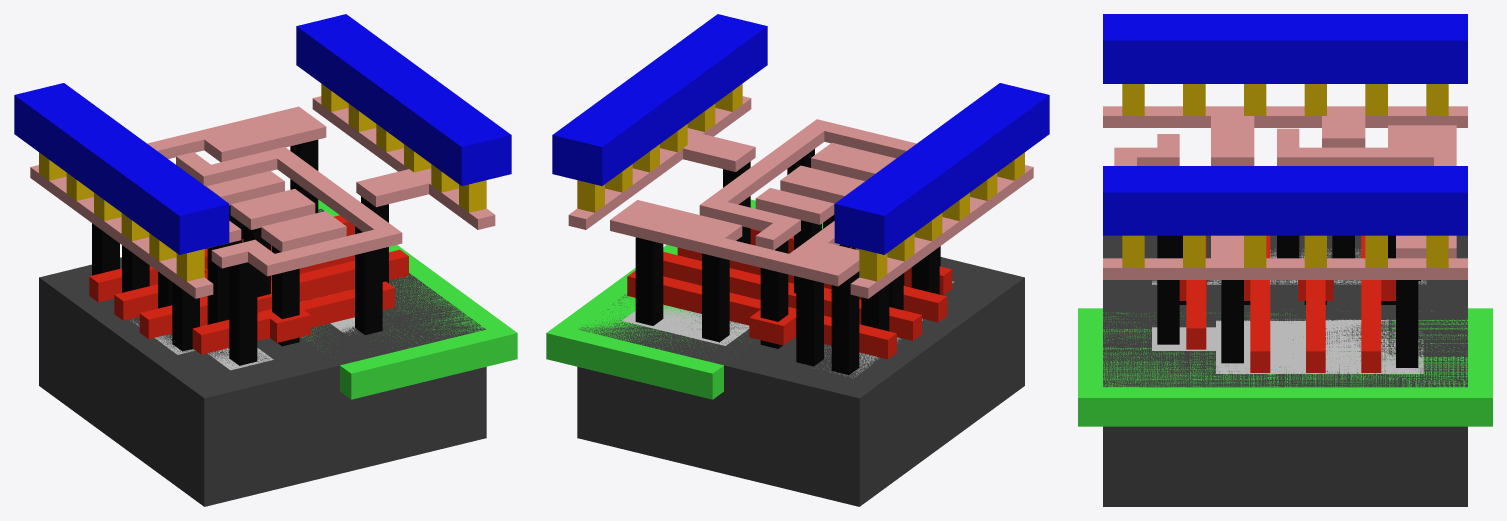
File: sky130_fd_sc_hd__nor3b_1.obj
The picture shows the model from 3 angles, left to right: view 1: azimuth 30°, elevation 25°; view 2: azimuth 150°, elevation 25°; view 3: azimuth 270°, elevation 25°; orthographic projection. The views are drawn at different scales.
Visible parts, largest first — view 1: subs, metal1, li, licon, poly, nwell, mcon, diff; view 2: subs, metal1, li, licon, poly, nwell, mcon, tap; view 3: subs, metal1, nwell, li, mcon, poly, licon, tap, diff.
Part boxes in pixels (x1=…): subs: x1=39, y1=208, x2=486, y2=506; metal1: x1=14, y1=14, x2=511, y2=254; li: x1=30, y1=96, x2=495, y2=298; licon: x1=92, y1=139, x2=388, y2=365; poly: x1=89, y1=215, x2=408, y2=354; nwell: x1=302, y1=199, x2=517, y2=399; mcon: x1=39, y1=83, x2=486, y2=281; diff: x1=130, y1=320, x2=273, y2=370; subs: x1=577, y1=228, x2=1024, y2=506; metal1: x1=552, y1=14, x2=1049, y2=254; li: x1=568, y1=96, x2=1033, y2=298; licon: x1=635, y1=149, x2=940, y2=374; poly: x1=627, y1=228, x2=952, y2=359; nwell: x1=546, y1=199, x2=822, y2=399; mcon: x1=577, y1=83, x2=1024, y2=281; tap: x1=622, y1=305, x2=749, y2=345; subs: x1=1103, y1=235, x2=1467, y2=506; metal1: x1=1103, y1=14, x2=1467, y2=235; nwell: x1=1078, y1=308, x2=1492, y2=426; li: x1=1103, y1=106, x2=1467, y2=279; mcon: x1=1122, y1=84, x2=1448, y2=267; poly: x1=1179, y1=235, x2=1395, y2=372; licon: x1=1157, y1=235, x2=1420, y2=367; tap: x1=1152, y1=319, x2=1423, y2=373; diff: x1=1152, y1=249, x2=1426, y2=284.
Bounding box in the file's own units: 3.2 × 2.74 × 3.14.
